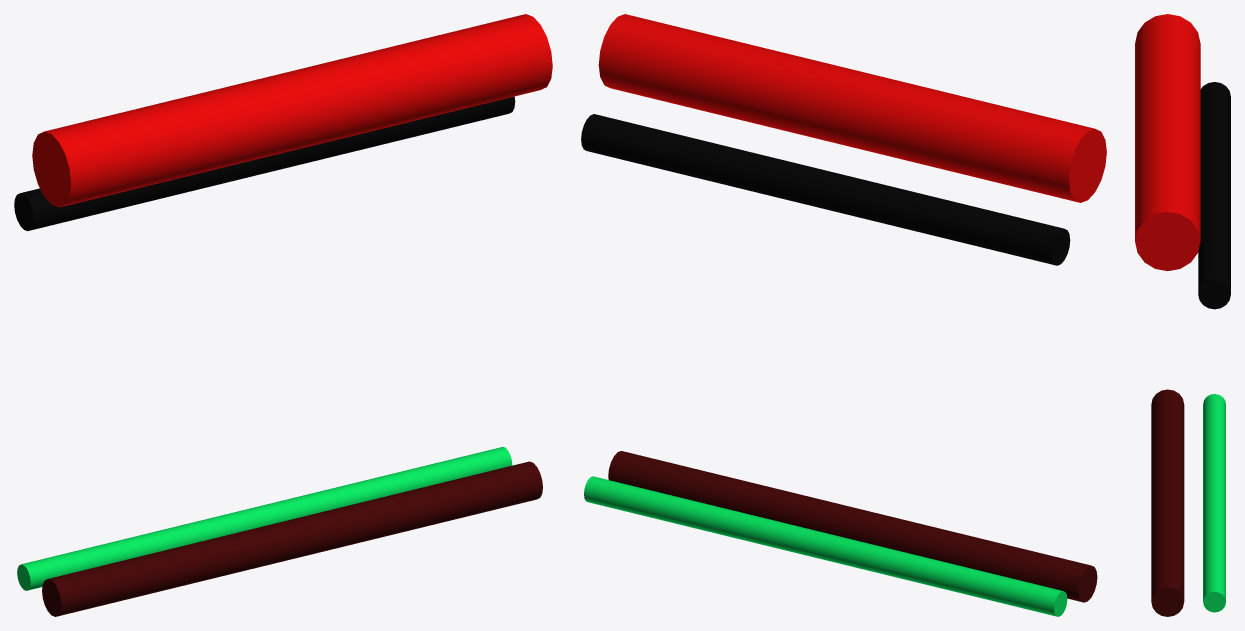
File: Scifi2_WallA_Pipe.fbx
3 renders of one model, left to right at view 1: azimuth 30°, elevation 25°; view 2: azimuth 150°, elevation 25°; view 3: azimuth 270°, elevation 25°, orthographic. The views are drawn at different scales.
Visible parts, largest first — view 1: WallPipe; view 2: WallPipe; view 3: WallPipe.
Part boxes in pixels (x1,y1,x2,y2): WallPipe: [14, 14, 552, 616]; WallPipe: [581, 14, 1106, 616]; WallPipe: [1135, 14, 1230, 616].
Size of the model in its own units: 400 by 382 by 82.
